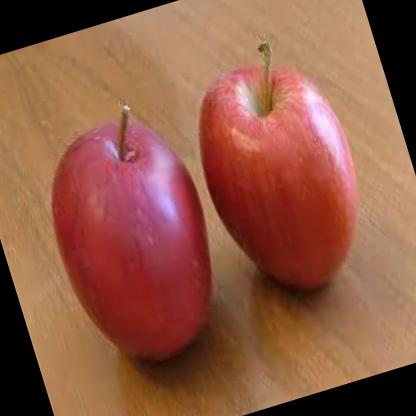apple: (24, 89, 244, 385), (171, 25, 389, 316)
